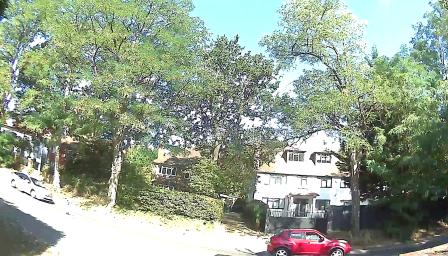Cars: (253, 228, 362, 255), (6, 165, 57, 207)
